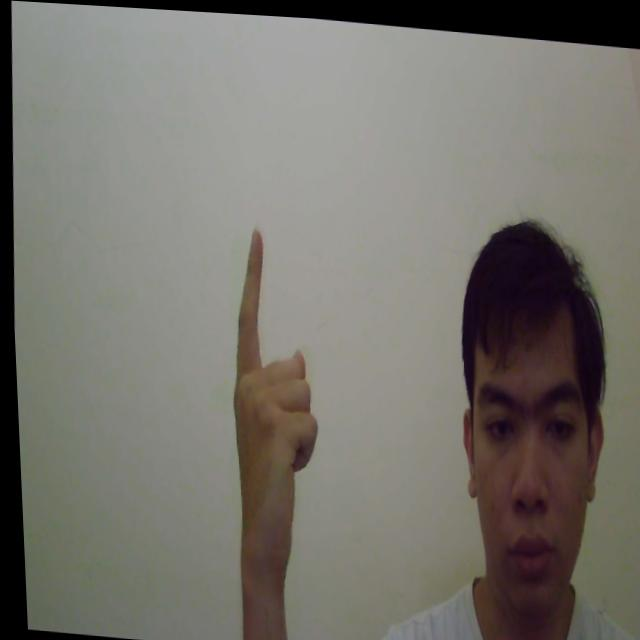D: (218, 221, 327, 571)
